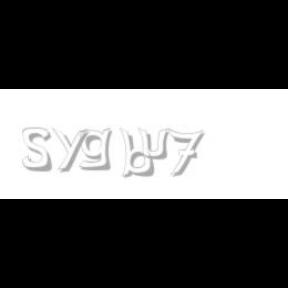7: (168, 128, 204, 178)
S: (22, 128, 54, 172)
b: (119, 128, 157, 178)
g: (79, 128, 116, 171)
u: (138, 128, 172, 160)
y: (52, 128, 92, 172)
